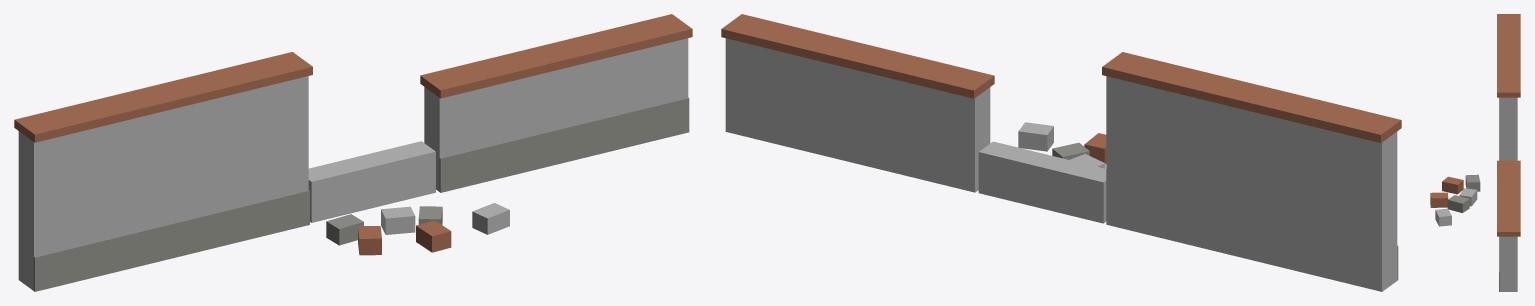
The model's file is SM_Tapia_v3_Roto_LOD0.fbx.
3 renders of one model, left to right at view 1: azimuth 30°, elevation 25°; view 2: azimuth 150°, elevation 25°; view 3: azimuth 270°, elevation 25°, orthographic. The views are drawn at different scales.
Parts seen in each view (by area): view 1: SM_bloques.viveres_nules_v8_LOD0; view 2: SM_bloques.viveres_nules_v8_LOD0; view 3: SM_bloques.viveres_nules_v8_LOD0.
Part boxes in pixels (bbox=[...]): SM_bloques.viveres_nules_v8_LOD0: bbox=[14, 14, 692, 291]; SM_bloques.viveres_nules_v8_LOD0: bbox=[721, 14, 1401, 291]; SM_bloques.viveres_nules_v8_LOD0: bbox=[1430, 14, 1520, 291].
Size of the model in its own units: 10.05 by 2.32 by 2.06.
